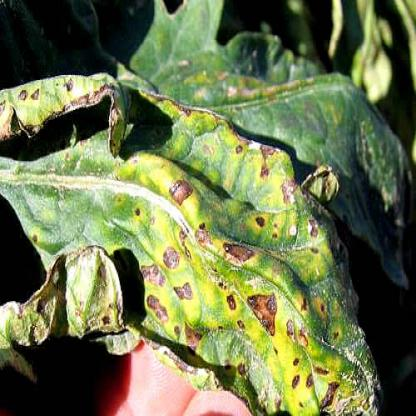tomato septoria leaf spot: (3, 50, 391, 412)
